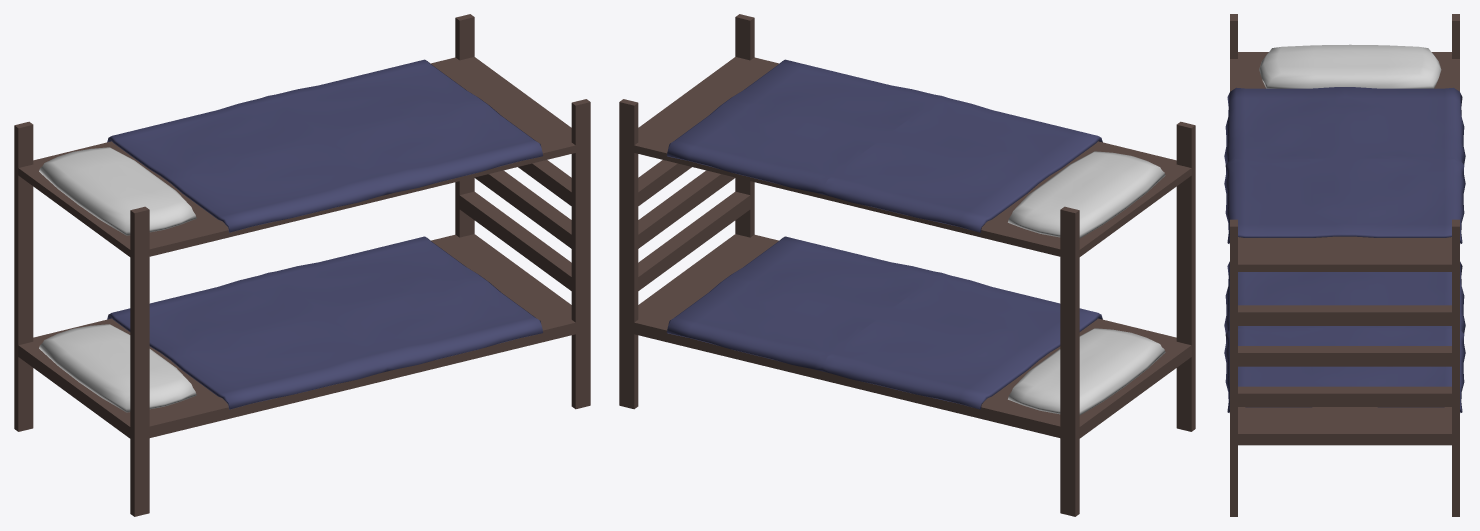
File: staple_bed.fbx
3 renders of one model, left to right at view 1: azimuth 30°, elevation 25°; view 2: azimuth 150°, elevation 25°; view 3: azimuth 270°, elevation 25°, orthographic. The views are drawn at different scales.
Parts seen in each view (by area): view 1: Cube; view 2: Cube; view 3: Cube.
Part boxes in pixels (x1,y1,x2,y2): Cube: (14,14,590,516); Cube: (619,14,1195,516); Cube: (1224,14,1465,516).
Size of the model in its own units: 2 by 1.27 by 0.9591.
